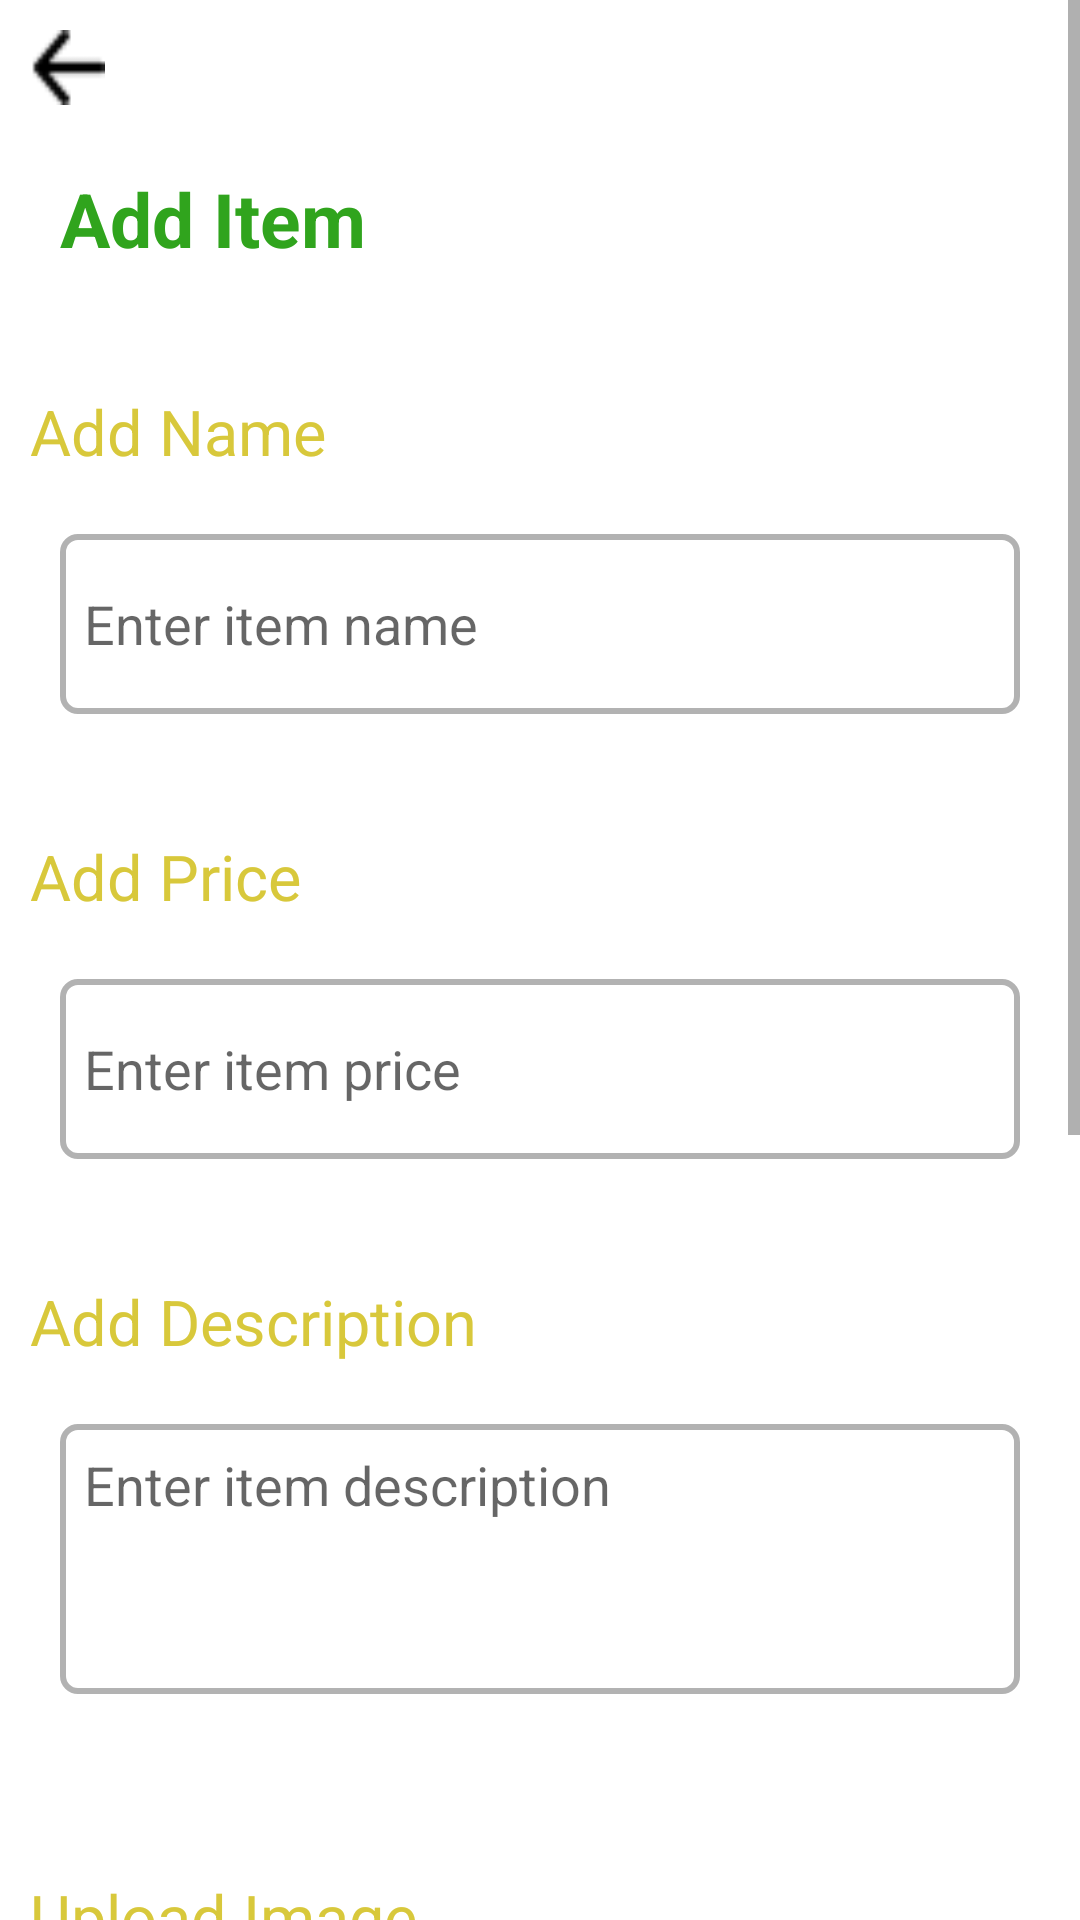

Icons on this 1080 x 1920 Android screen, each with its box as (x1,y1,x2,y2):
back arrow: (32,30,105,105)
